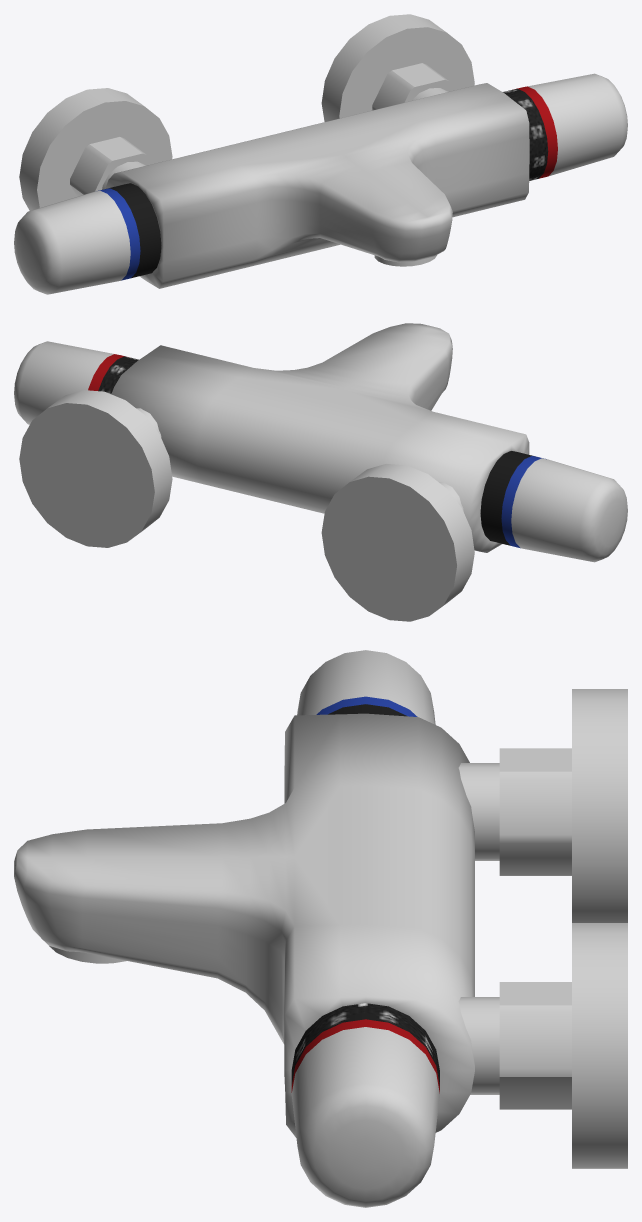
The model's file is sh_scopia_mixer_tap_for_bath.glb.
3 renders of one model, top to bottom at view 1: azimuth 30°, elevation 25°; view 2: azimuth 150°, elevation 25°; view 3: azimuth 270°, elevation 25°, orthographic. The views are drawn at different scales.
Bounding box in the file's own units: 0.29 × 0.067 × 0.166.
Materials: 7 (1 with a texture image).
